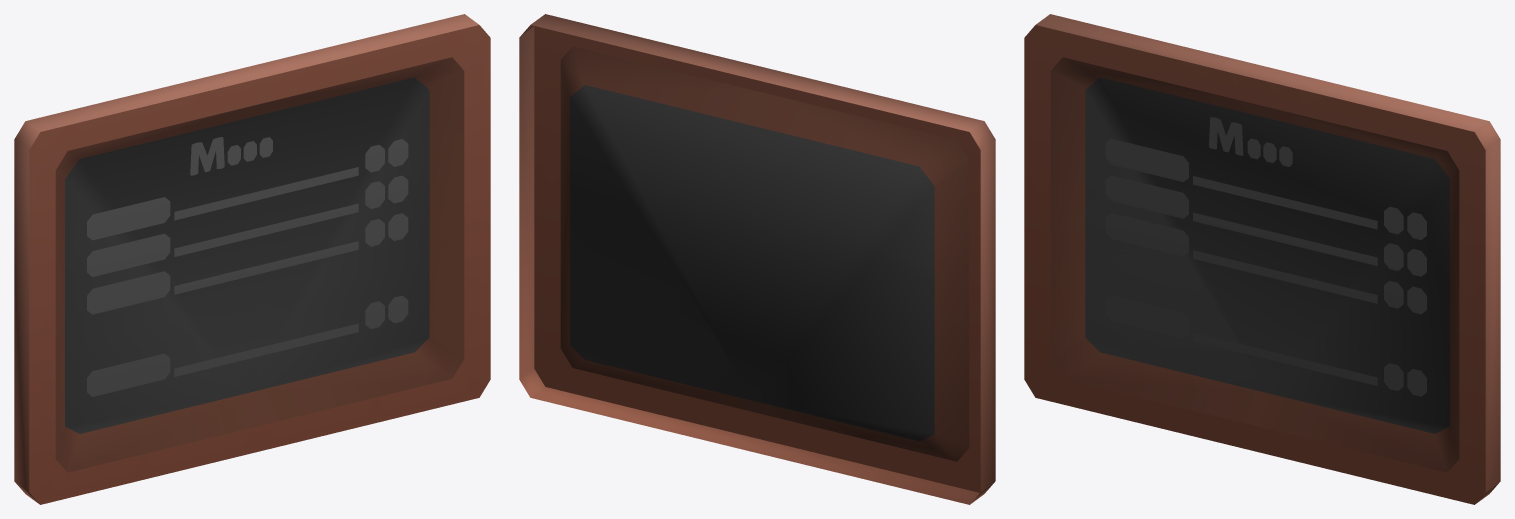
File: Poster-cafe.fbx
3 renders of one model, left to right at view 1: azimuth 30°, elevation 25°; view 2: azimuth 150°, elevation 25°; view 3: azimuth 330°, elevation 25°, orthographic.
Parts seen in each view (by area): view 1: Poster-cafe; view 2: Poster-cafe; view 3: Poster-cafe.
Boxes of the visible parts, x1=… form: Poster-cafe: x1=14, y1=14, x2=490, y2=504; Poster-cafe: x1=519, y1=14, x2=995, y2=504; Poster-cafe: x1=1024, y1=14, x2=1500, y2=504.
Size of the model in its own units: 129 by 99.5 by 7.21.
